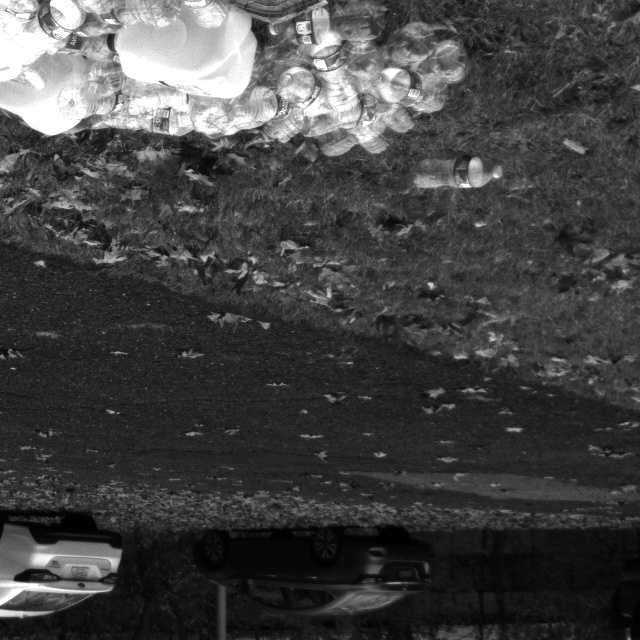bottle: (89, 96, 207, 150), (363, 68, 454, 120), (413, 151, 511, 199), (25, 0, 109, 53), (300, 36, 358, 112), (373, 18, 442, 74), (62, 72, 140, 121), (219, 86, 302, 128), (434, 36, 472, 80)
can: (107, 13, 266, 102), (0, 46, 102, 138)
